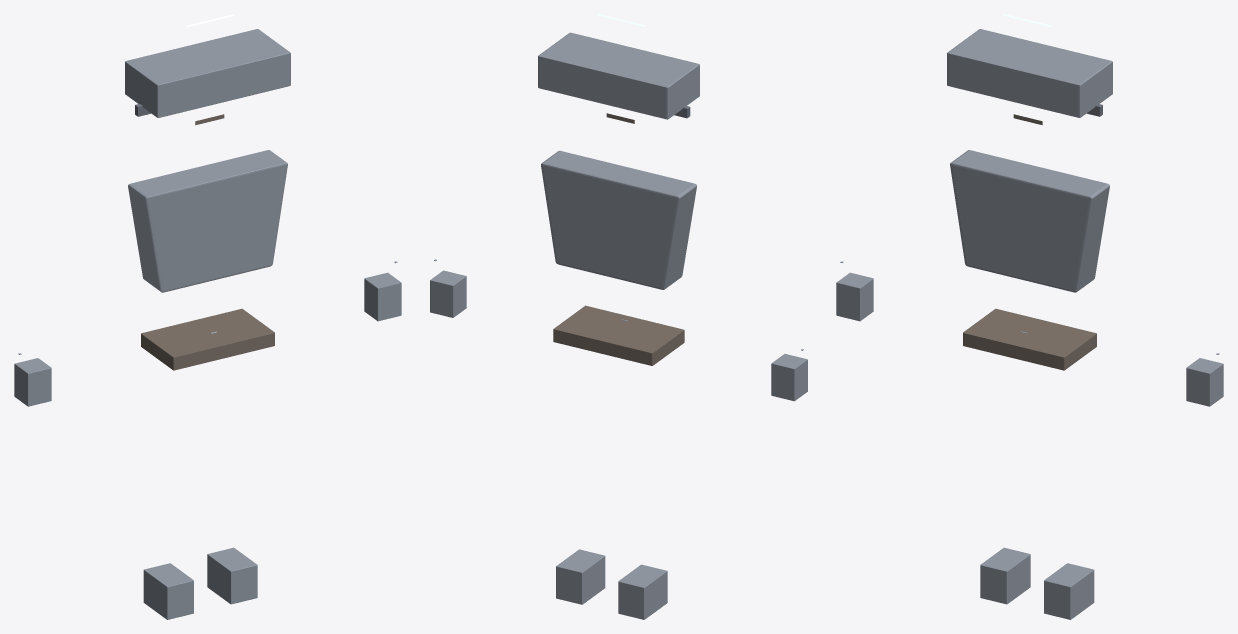
Rendered from outfit_initiate.glb.
The picture shows the model from 3 angles, left to right: view 1: azimuth 30°, elevation 25°; view 2: azimuth 150°, elevation 25°; view 3: azimuth 330°, elevation 25°; orthographic projection. The views are drawn at different scales.
Parts seen in each view (by area): view 1: outfit_initiate_chest_plate, outfit_initiate_head_visor, outfit_initiate_hip_belt, outfit_initiate_boot_R, outfit_initiate_boot_L, outfit_initiate_glove_L, outfit_initiate_glove_R; view 2: outfit_initiate_chest_plate, outfit_initiate_head_visor, outfit_initiate_hip_belt, outfit_initiate_boot_L, outfit_initiate_boot_R, outfit_initiate_glove_R, outfit_initiate_glove_L; view 3: outfit_initiate_chest_plate, outfit_initiate_head_visor, outfit_initiate_hip_belt, outfit_initiate_boot_L, outfit_initiate_boot_R, outfit_initiate_glove_R, outfit_initiate_glove_L.
Part boxes in pixels (x1,y1,x2,y2): outfit_initiate_chest_plate: (128,150,287,292); outfit_initiate_head_visor: (125,29,290,117); outfit_initiate_hip_belt: (141,308,274,370); outfit_initiate_boot_R: (207,547,257,604); outfit_initiate_boot_L: (143,563,193,619); outfit_initiate_glove_L: (14,358,51,406); outfit_initiate_glove_R: (364,272,401,321); outfit_initiate_chest_plate: (541,150,696,289); outfit_initiate_head_visor: (538,32,699,119); outfit_initiate_hip_belt: (553,305,684,365); outfit_initiate_boot_L: (618,564,667,619); outfit_initiate_boot_R: (556,549,605,604); outfit_initiate_glove_R: (430,270,466,317); outfit_initiate_glove_L: (771,354,807,401); outfit_initiate_chest_plate: (950,150,1109,292); outfit_initiate_head_visor: (947,29,1112,117); outfit_initiate_hip_belt: (963,308,1096,370); outfit_initiate_boot_L: (980,547,1030,604); outfit_initiate_boot_R: (1044,563,1094,619); outfit_initiate_glove_R: (1186,358,1223,406); outfit_initiate_glove_L: (836,272,873,321).
Bounding box in the file's own units: 1.19 × 1.77 × 0.195.
